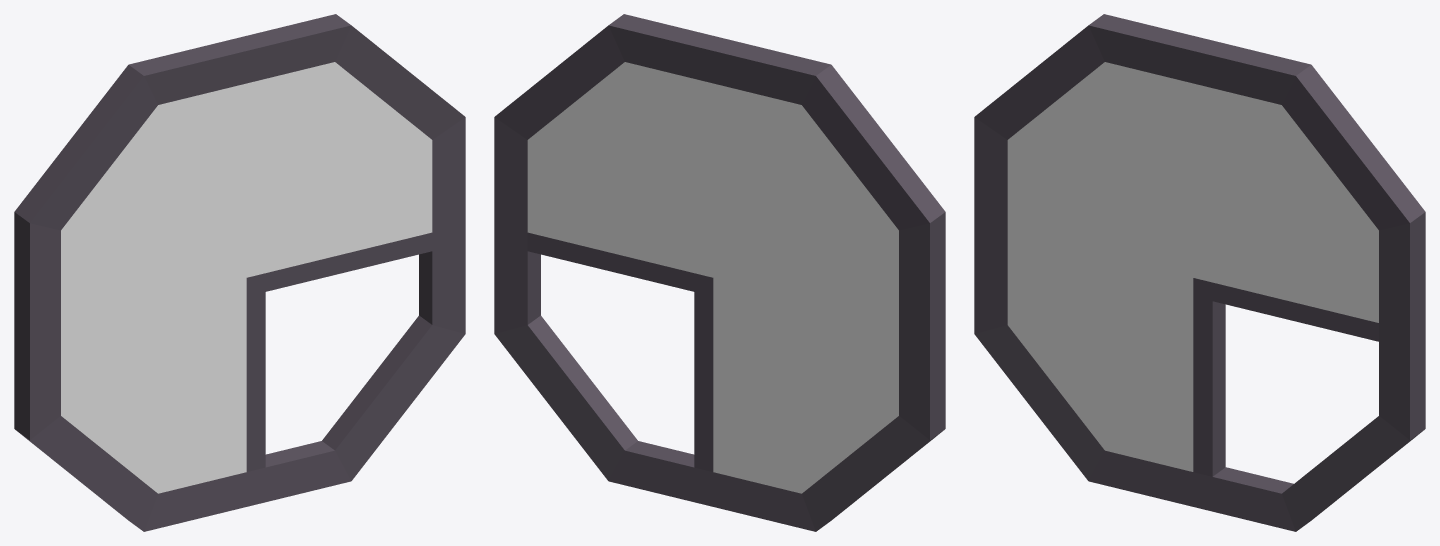
The model's file is Obstacle07.fbx.
3 renders of one model, left to right at view 1: azimuth 30°, elevation 25°; view 2: azimuth 150°, elevation 25°; view 3: azimuth 330°, elevation 25°, orthographic.
Parts seen in each view (by area): view 1: Obstacle07; view 2: Obstacle07; view 3: Obstacle07.
Boxes of the visible parts, box(x1,y1,x2,y2) form: Obstacle07: box(14, 14, 465, 531); Obstacle07: box(494, 14, 945, 531); Obstacle07: box(974, 14, 1425, 531).
Size of the model in its own units: 49.27 by 49.27 by 3.05.
